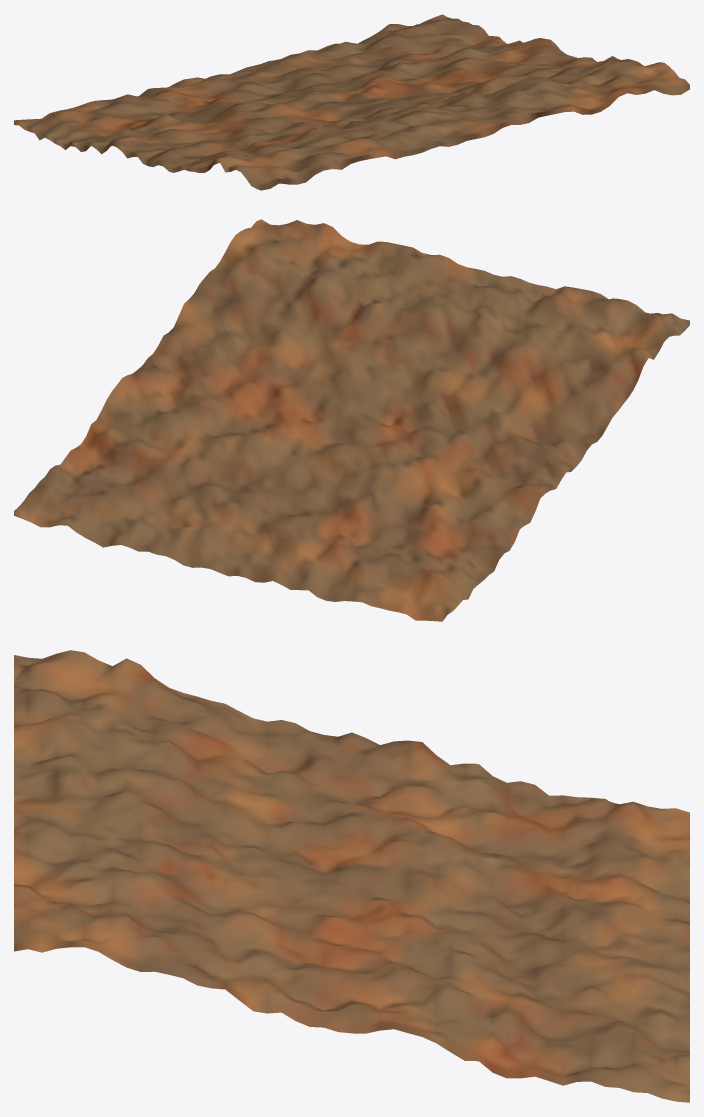
Rendered from terrain-162.glb.
3 renders of one model, top to bottom at view 1: azimuth 30°, elevation 25°; view 2: azimuth 150°, elevation 25°; view 3: azimuth 270°, elevation 25°, orthographic. The views are drawn at different scales.
Parts seen in each view (by area): view 1: terrain-162; view 2: terrain-162; view 3: terrain-162.
Part boxes in pixels (x1,y1,x2,y2): terrain-162: (14,14,689,190); terrain-162: (14,219,689,621); terrain-162: (14,650,689,1102).
Size of the model in its own units: 384 by 117 by 384.
